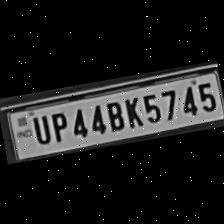4: (65, 103, 89, 139), (174, 82, 198, 118), (84, 100, 106, 136)
5: (193, 78, 218, 114), (138, 90, 162, 126)
7: (158, 86, 180, 122)
B: (102, 97, 125, 133)
K: (120, 94, 144, 130)
P: (45, 107, 69, 144)
U: (26, 110, 50, 146)
